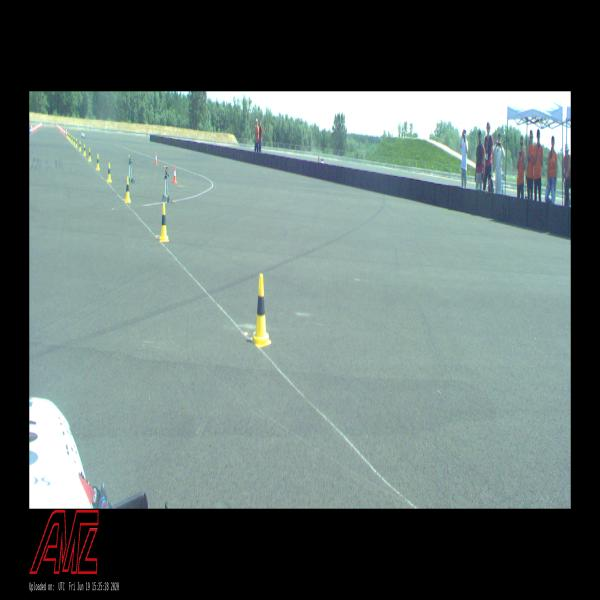orange_cone: (173, 166, 178, 183), (155, 153, 157, 164)
yellow_cone: (251, 274, 271, 348), (159, 202, 169, 242), (125, 177, 131, 203), (108, 162, 112, 182), (96, 154, 100, 170), (88, 148, 92, 162), (78, 140, 82, 152), (83, 143, 86, 156), (76, 138, 78, 148), (73, 136, 75, 145), (71, 135, 73, 143), (69, 134, 71, 141), (68, 132, 69, 139), (67, 131, 68, 138)
